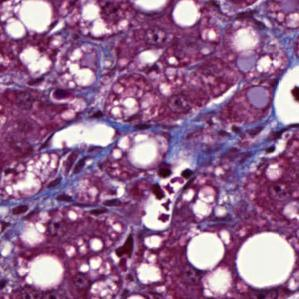inflammation: (146, 161, 199, 211)
